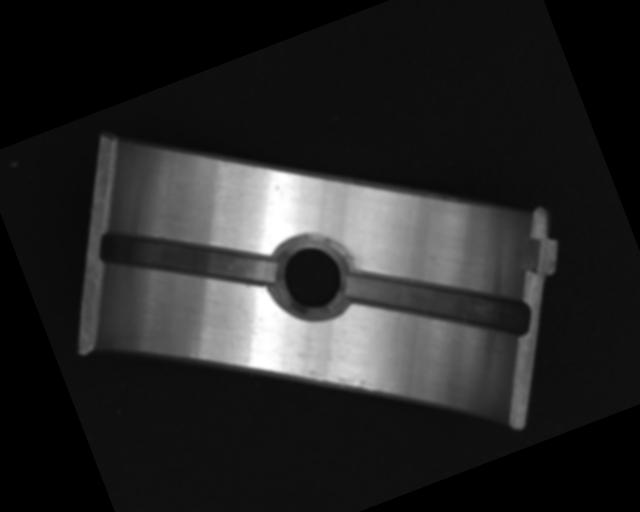gap: (342, 218, 537, 391), (95, 179, 282, 335)
hole: (264, 223, 356, 325)
